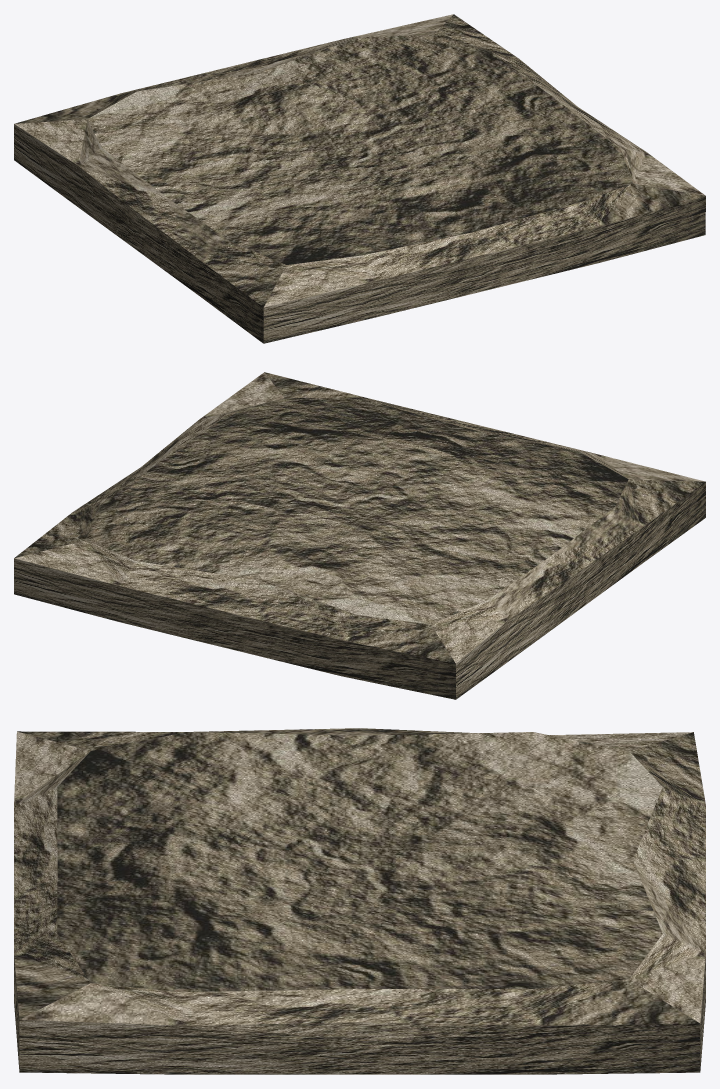
The model's file is stoneplate-extra.obj.
3 views of the same model, one above another, from view 1: azimuth 30°, elevation 25°; view 2: azimuth 150°, elevation 25°; view 3: azimuth 270°, elevation 25° (orthographic). The views are drawn at different scales.
Parts seen in each view (by area): view 1: stoneplate-einzeln; view 2: stoneplate-einzeln; view 3: stoneplate-einzeln.
Part boxes in pixels (x1,y1,x2,y2): stoneplate-einzeln: (14,14,705,343); stoneplate-einzeln: (14,372,705,699); stoneplate-einzeln: (14,728,705,1074).
Size of the model in its own units: 0.3302 by 0.0542 by 0.3281.
